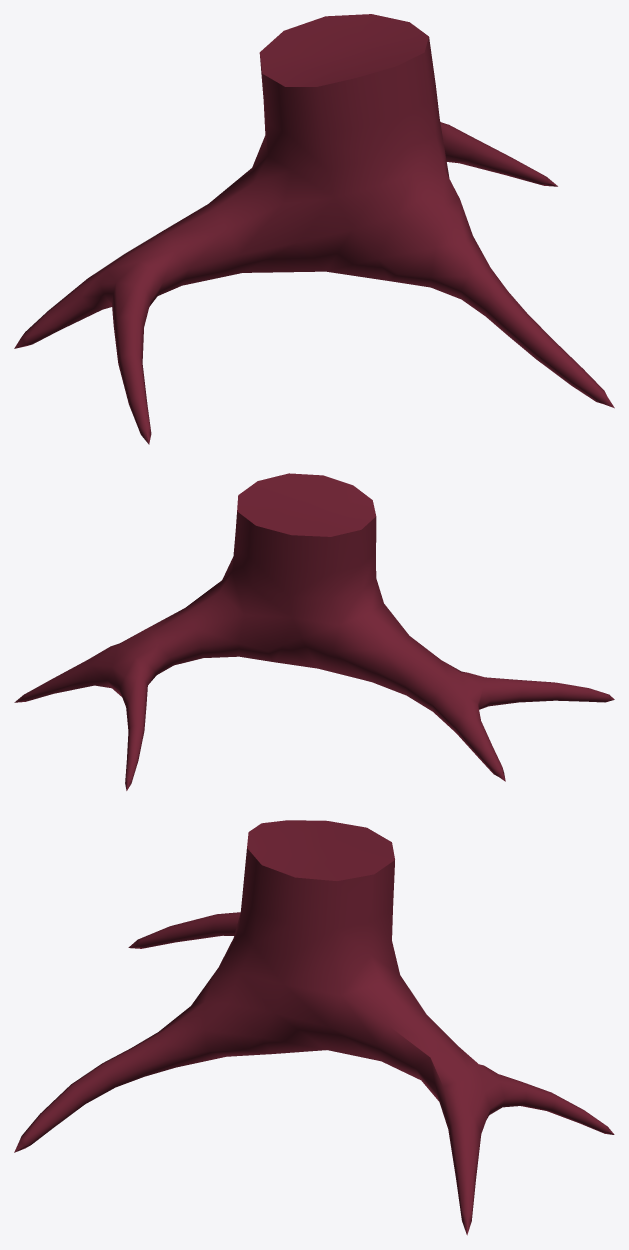
File: TreeStump.fbx
3 views of the same model, one above another, from view 1: azimuth 30°, elevation 25°; view 2: azimuth 150°, elevation 25°; view 3: azimuth 270°, elevation 25° (orthographic). The views are drawn at different scales.
Parts seen in each view (by area): view 1: Plane.013; view 2: Plane.013; view 3: Plane.013.
Part boxes in pixels (left/top/right/bottom): Plane.013: left=14, top=14, right=614, bottom=444; Plane.013: left=14, top=473, right=614, bottom=790; Plane.013: left=14, top=820, right=614, bottom=1235.
Size of the model in its own units: 323 by 144 by 301.
